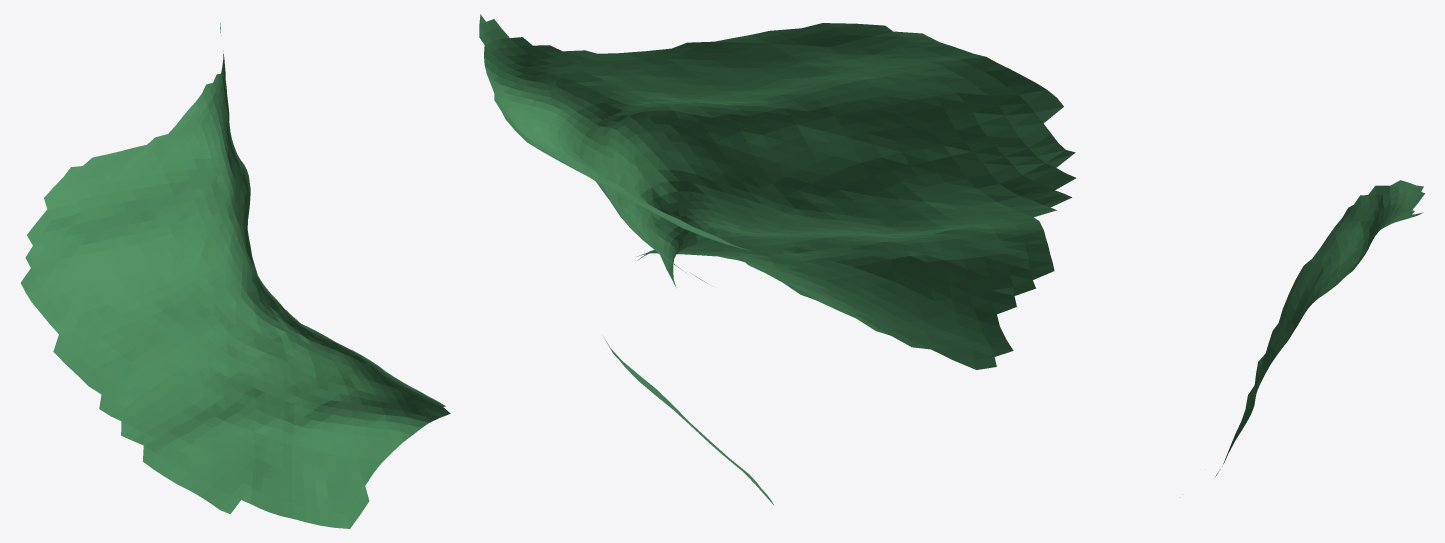
The model's file is lh_bankssts.glb.
3 renders of one model, left to right at view 1: azimuth 30°, elevation 25°; view 2: azimuth 150°, elevation 25°; view 3: azimuth 270°, elevation 25°, orthographic. The views are drawn at different scales.
Visible parts, largest first — view 1: world; view 2: world; view 3: world.
Part boxes in pixels (x1,y1,x2,y2): world: [21, 23, 450, 528]; world: [479, 14, 1075, 504]; world: [1215, 180, 1424, 476].
Bounding box in the file's own units: 22.98 × 25.42 × 18.26.
